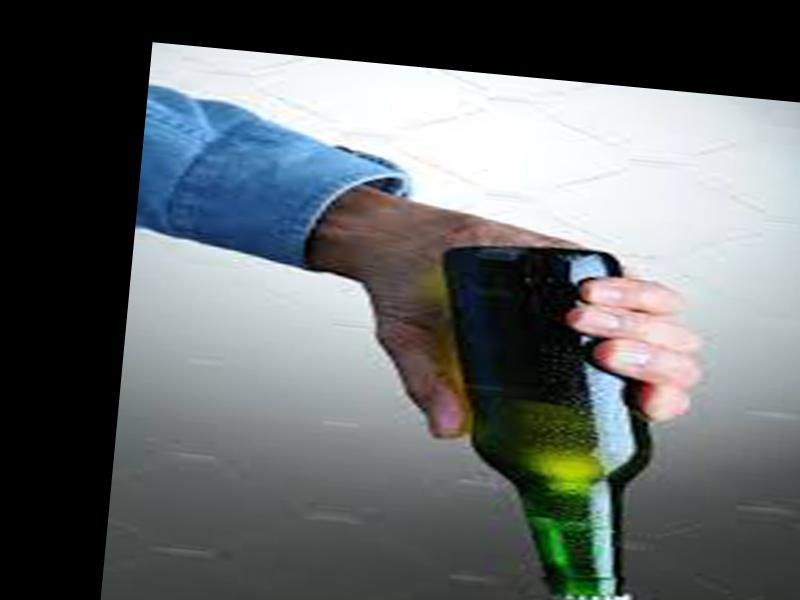Beer: (407, 234, 667, 600)
